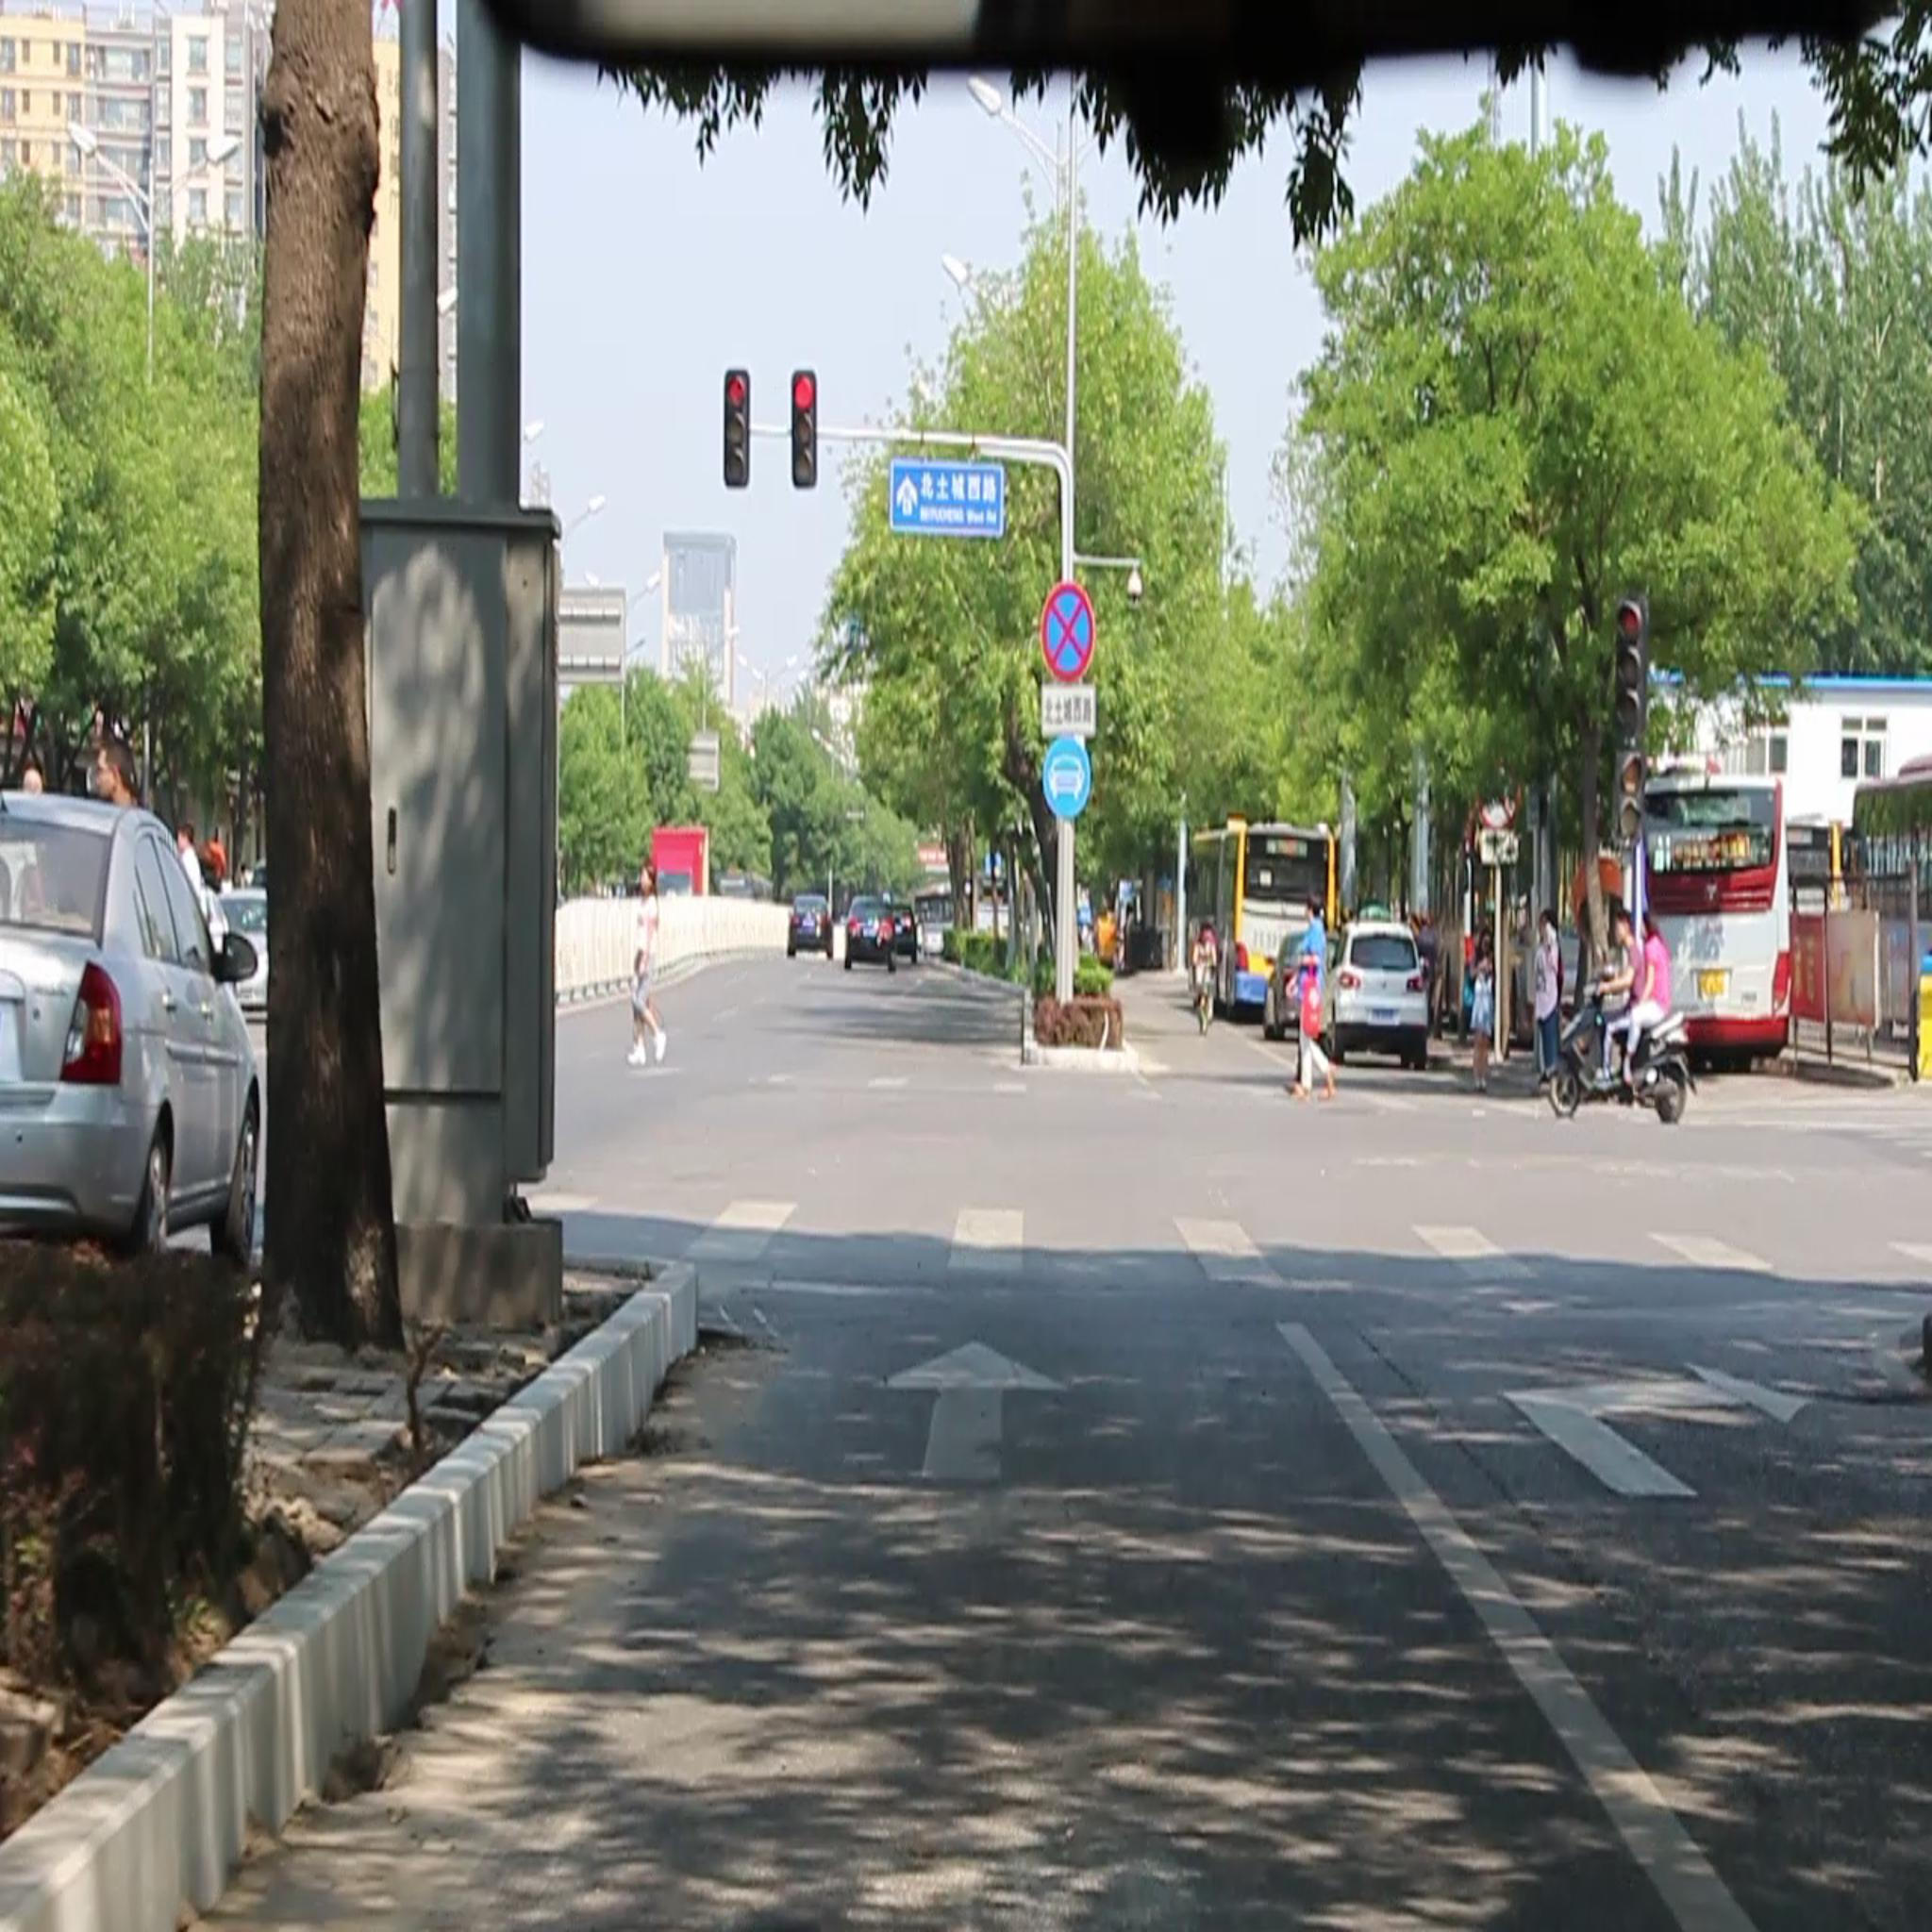i4: (1033, 738, 1099, 812)
pn: (1040, 579, 1108, 672)
